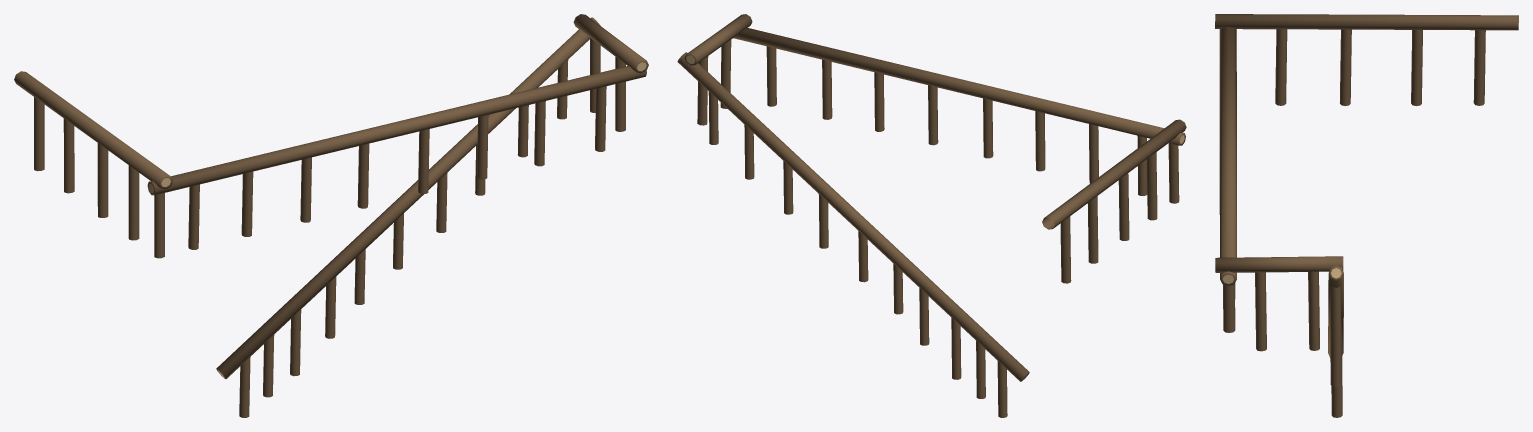
Rendered from rpgpp_ag_stairs_interior_01a_3m_handrail_01.fbx.
The picture shows the model from 3 angles, left to right: view 1: azimuth 30°, elevation 25°; view 2: azimuth 150°, elevation 25°; view 3: azimuth 270°, elevation 25°; orthographic projection. The views are drawn at different scales.
Visible parts, largest first — view 1: rpgpp_ag_stairs_interior_01a_3m_handrail_01; view 2: rpgpp_ag_stairs_interior_01a_3m_handrail_01; view 3: rpgpp_ag_stairs_interior_01a_3m_handrail_01.
Boxes of the visible parts, left/top/right/bottom form: rpgpp_ag_stairs_interior_01a_3m_handrail_01: left=14, top=14, right=648, bottom=417; rpgpp_ag_stairs_interior_01a_3m_handrail_01: left=677, top=14, right=1186, bottom=417; rpgpp_ag_stairs_interior_01a_3m_handrail_01: left=1215, top=14, right=1518, bottom=417.
Size of the model in its own units: 6.35 by 3.84 by 3.18.
